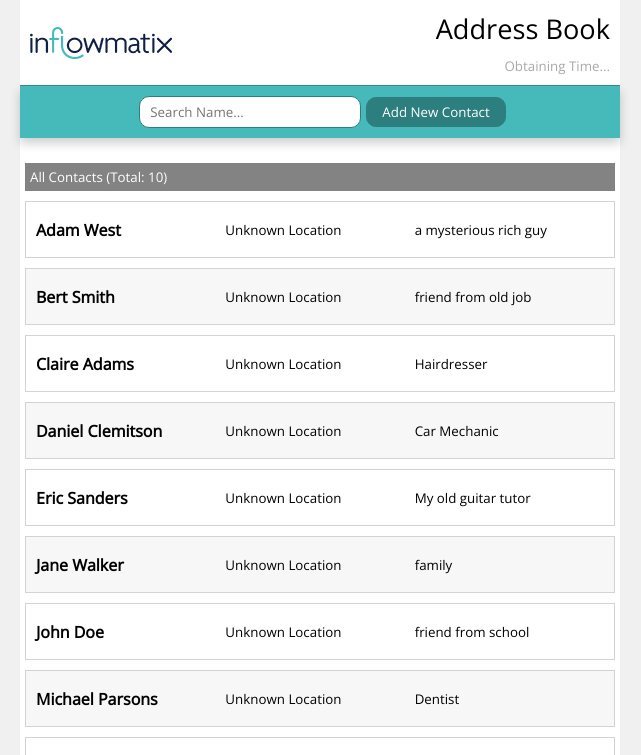
Test: runs searches › search for name: Eric
Type "Eric" into the field with id "txtSearch" at (250, 112), box x1=139 y1=96 x2=361 y2=128
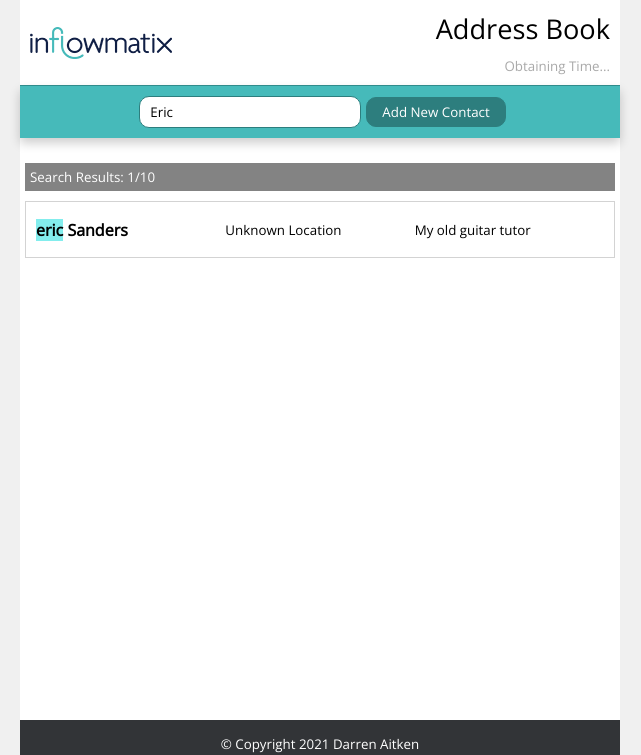
Expected: the text "Sanders" is shown, x1=63 y1=219 x2=128 y2=241
Expected: the text "Search Results: 1/10" is shown, x1=25 y1=163 x2=615 y2=191
